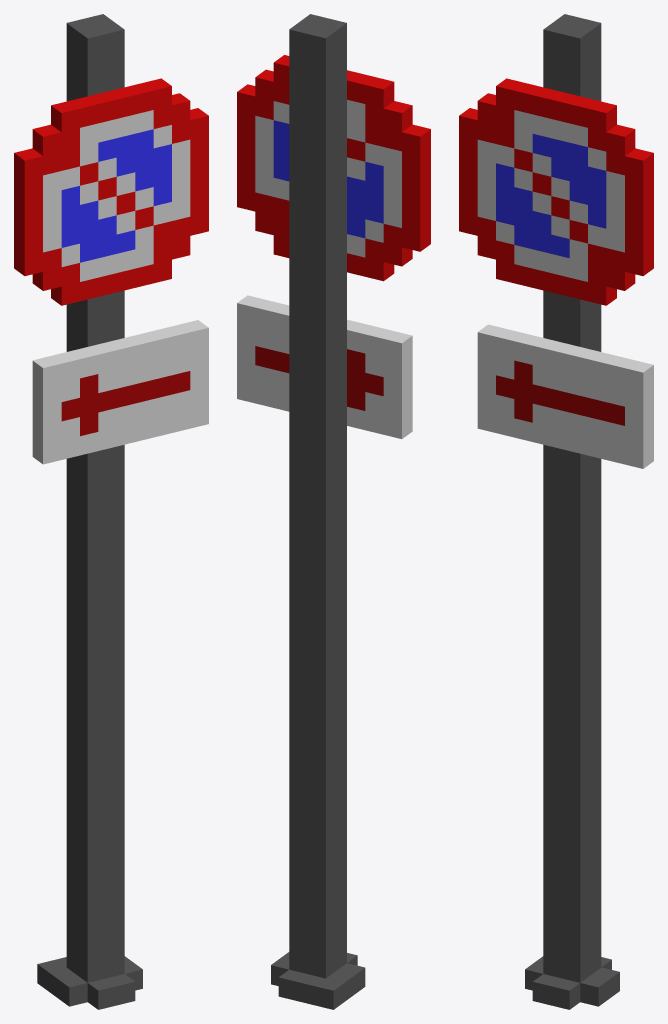
Rendered from signPoleOne.glb.
The picture shows the model from 3 angles, left to right: view 1: azimuth 30°, elevation 25°; view 2: azimuth 150°, elevation 25°; view 3: azimuth 330°, elevation 25°; orthographic projection.
Visible parts, largest first — view 1: ObjObject; view 2: ObjObject; view 3: ObjObject.
Boxes of the visible parts, x1,y1,x2,y2 form: ObjObject: (14, 14, 208, 1009); ObjObject: (237, 14, 430, 1009); ObjObject: (459, 14, 653, 1009).
Size of the model in its own units: 1 by 5 by 0.4.
1 material, 1 textured.
